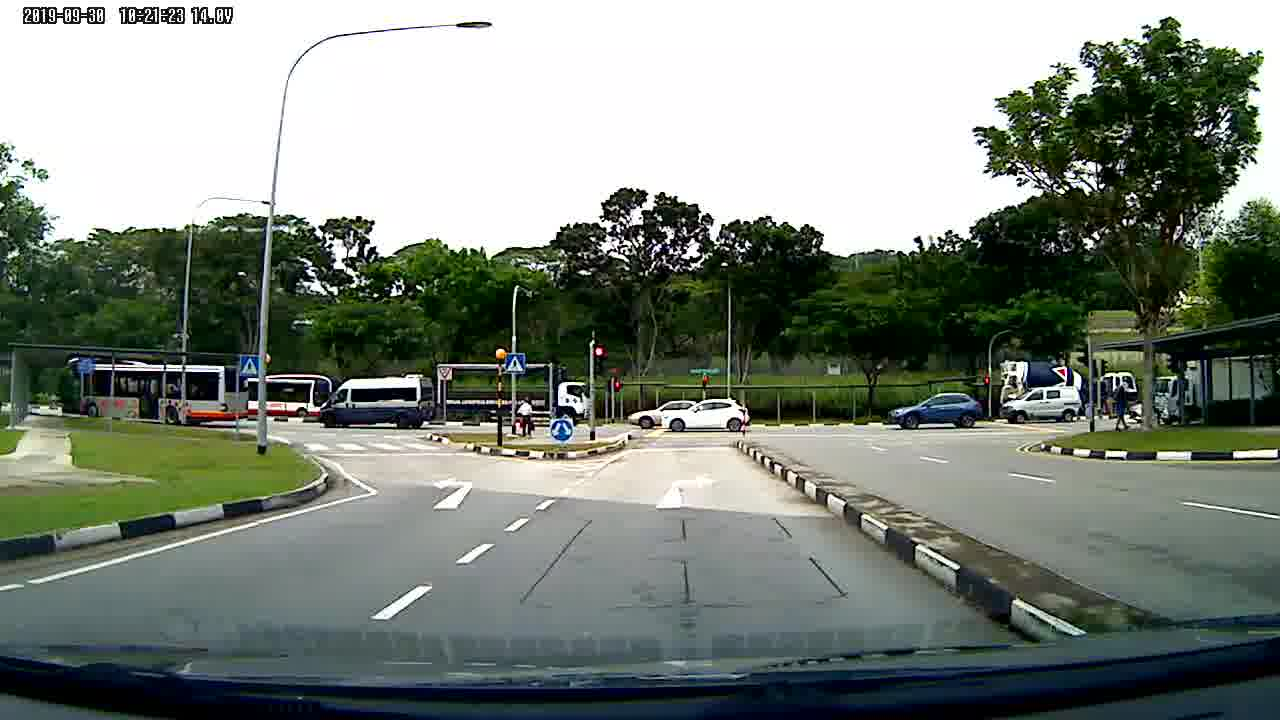bus: (59, 353, 252, 426), (247, 370, 334, 425)
car: (60, 353, 248, 433), (244, 368, 339, 420), (886, 390, 989, 433), (666, 396, 753, 439), (622, 394, 704, 424)
